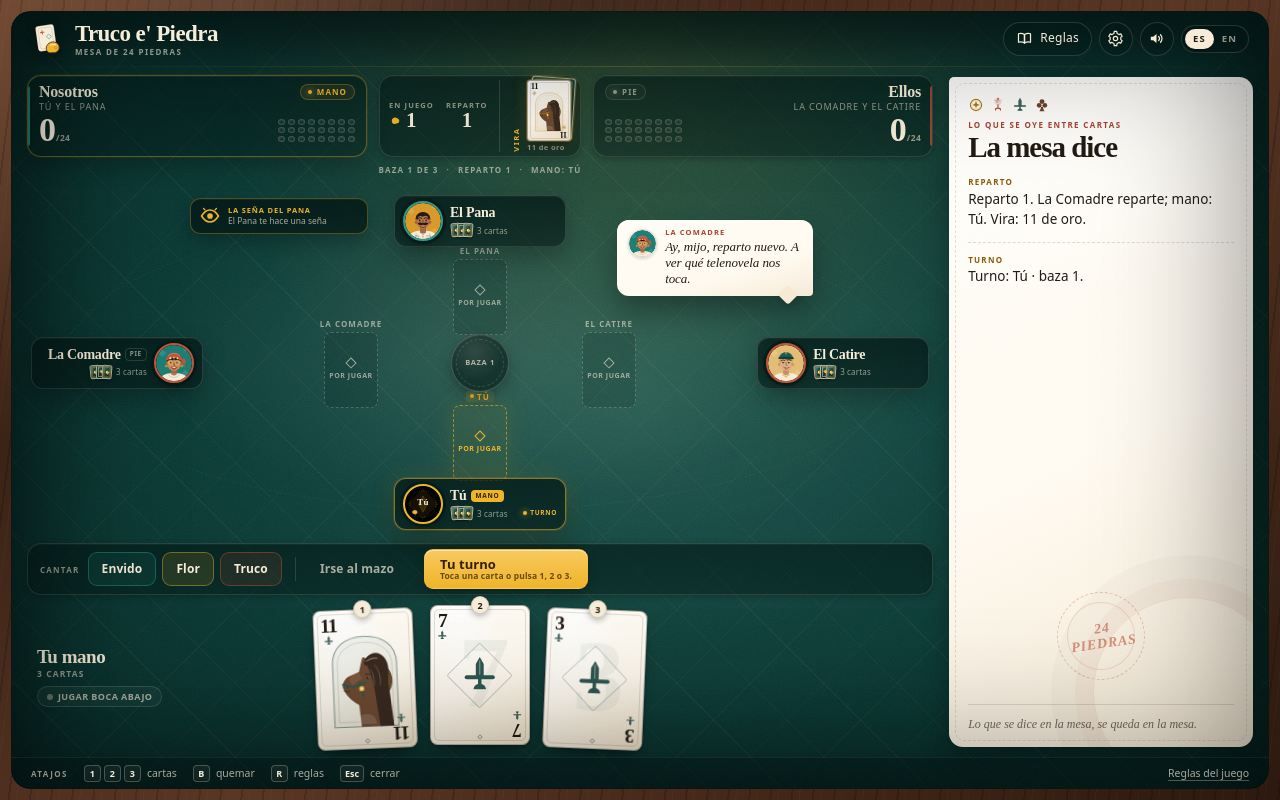
Test: the live table › renders the dealt hand and plays a card on click
Click the button named "Jugar " at (365, 679), box [312,607,418,751]
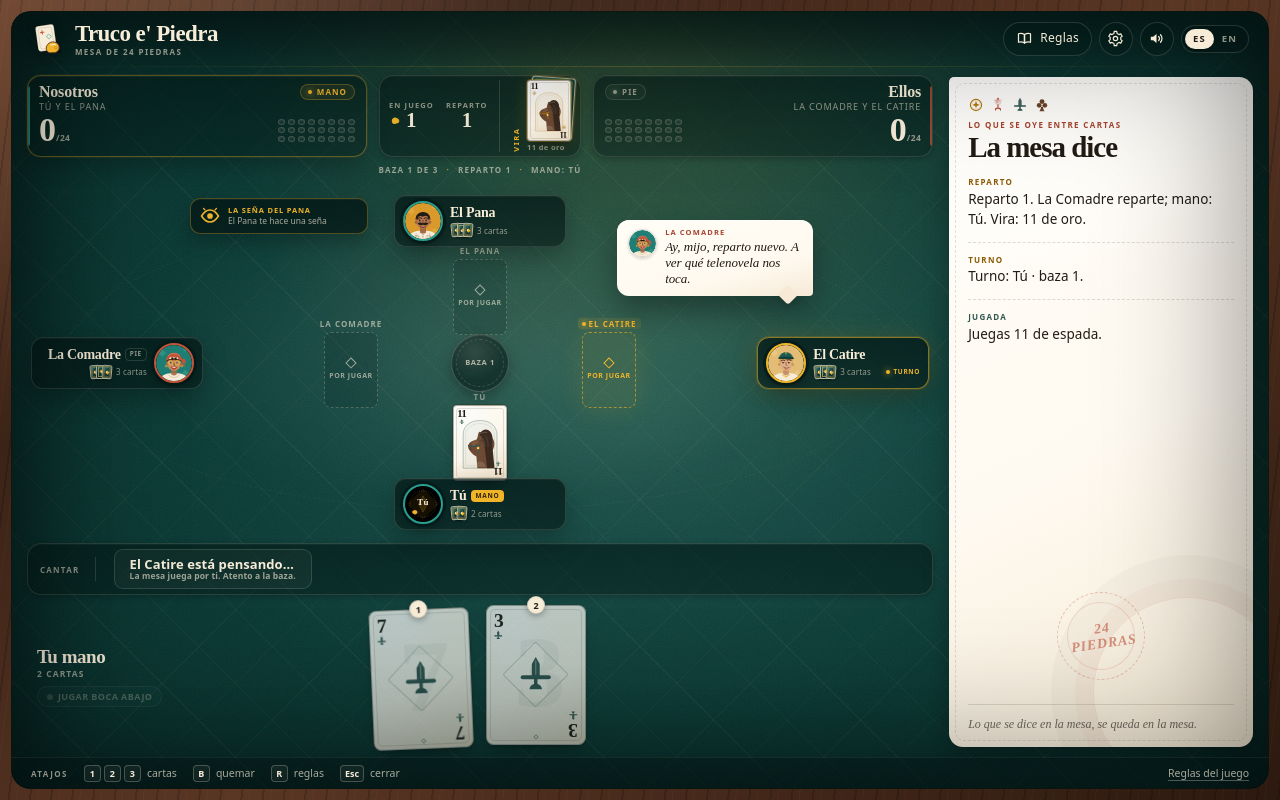
Expected: the number of buttons named "Jugar " is 2, [368,607,474,751]; [486,605,586,745]
